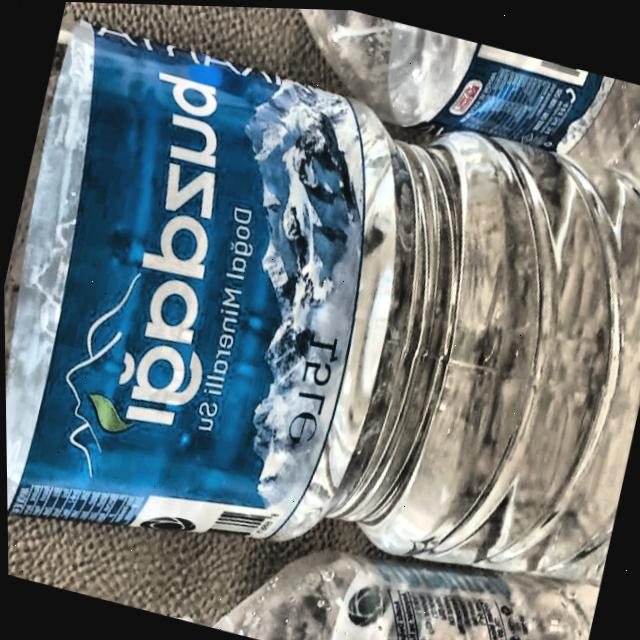plastic: (3, 22, 640, 584), (303, 7, 640, 184), (160, 543, 599, 640)
